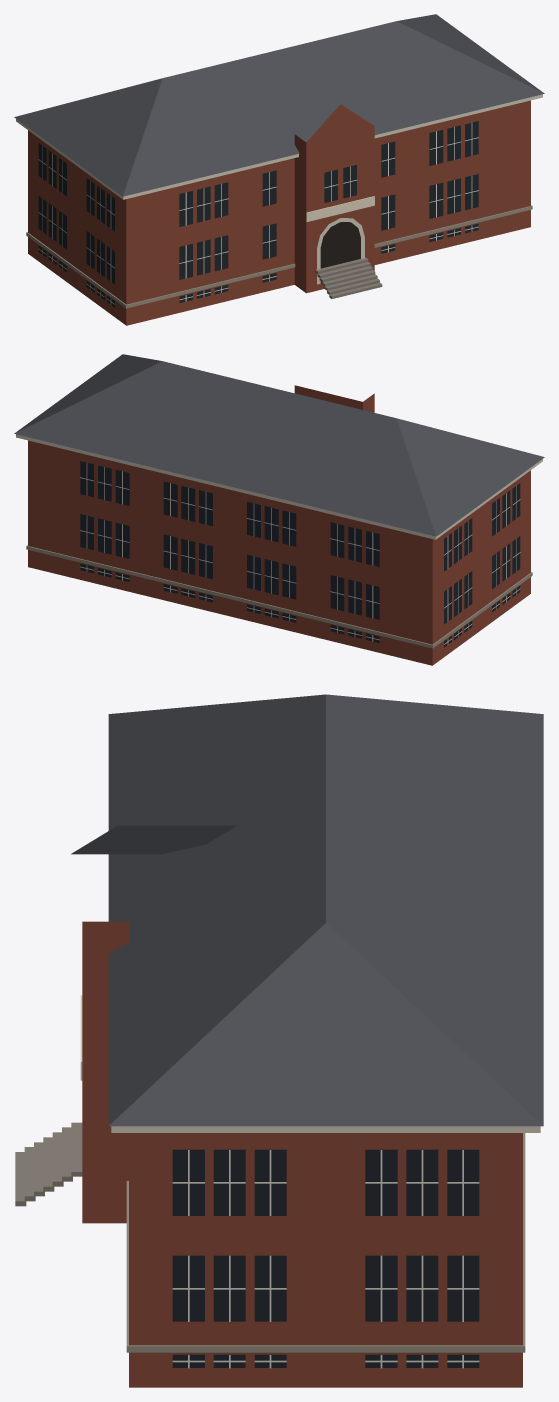
The model's file is catholic-high-school.glb.
3 renders of one model, top to bottom at view 1: azimuth 30°, elevation 25°; view 2: azimuth 150°, elevation 25°; view 3: azimuth 270°, elevation 25°, orthographic. The views are drawn at different scales.
Visible parts, largest first — view 1: kit-catholic-high-school; view 2: kit-catholic-high-school; view 3: kit-catholic-high-school.
Boxes of the visible parts, left/top/right/bottom form: kit-catholic-high-school: left=14, top=14, right=544, bottom=325; kit-catholic-high-school: left=14, top=354, right=544, bottom=665; kit-catholic-high-school: left=15, top=694, right=543, bottom=1387.
Bounding box in the file's own units: 33.4 × 14.42 × 18.09.
